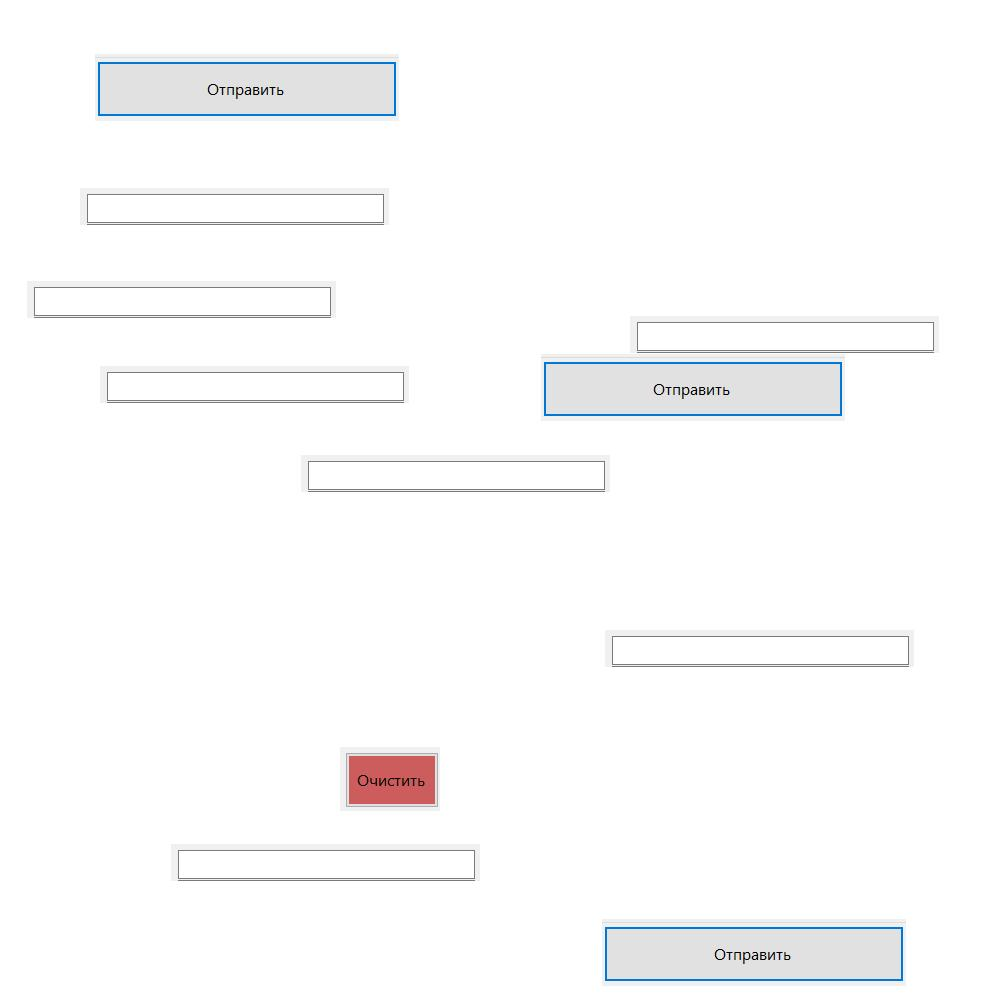Button: (602, 919, 906, 986), (95, 54, 399, 121), (541, 354, 845, 421), (340, 747, 440, 811)
EditText-: (171, 844, 480, 881), (100, 366, 409, 403), (27, 281, 336, 318), (301, 455, 610, 492), (605, 630, 914, 667), (80, 188, 389, 225), (630, 316, 939, 353)
